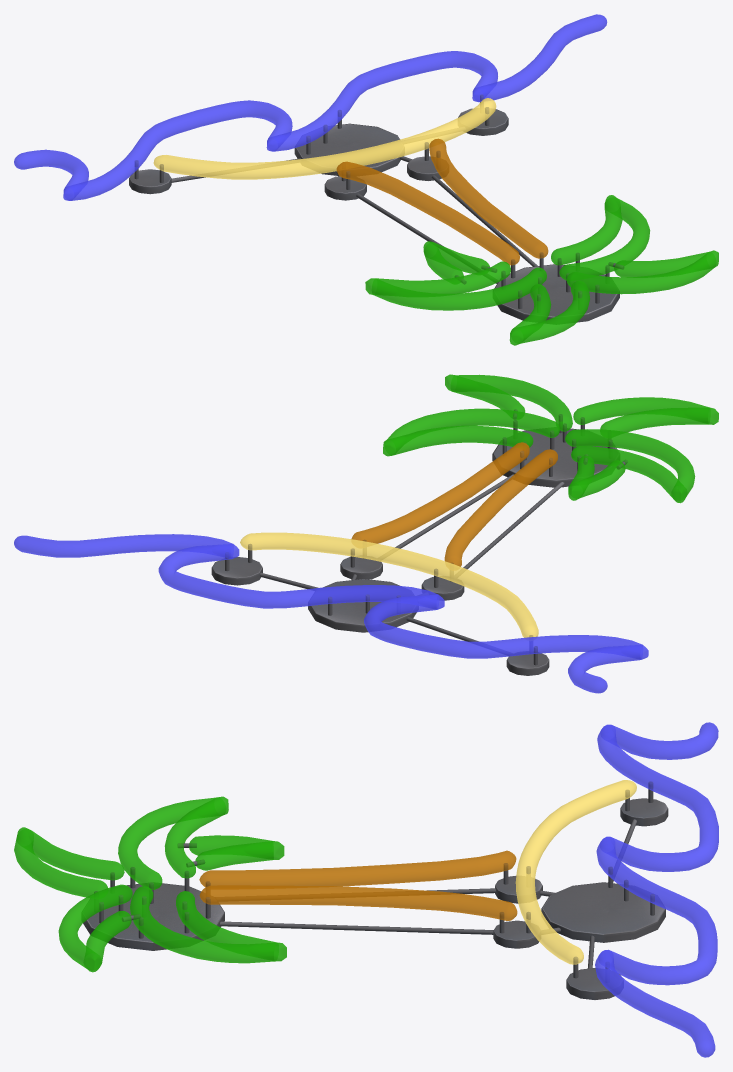
File: neon_palm_tree_sign.glb
3 renders of one model, top to bottom at view 1: azimuth 30°, elevation 25°; view 2: azimuth 150°, elevation 25°; view 3: azimuth 270°, elevation 25°, orthographic. The views are drawn at different scales.
Parts seen in each view (by area): view 1: Object_6, Object_3, Object_2, Object_5, Object_4; view 2: Object_6, Object_3, Object_2, Object_5, Object_4; view 3: Object_6, Object_2, Object_3, Object_5, Object_4.
Boxes of the visible parts, x1,y1,x2,y2 form: Object_6: (365, 195, 718, 345); Object_3: (14, 14, 607, 200); Object_2: (129, 94, 624, 322); Object_5: (336, 138, 548, 265); Object_4: (153, 98, 496, 179); Object_6: (383, 374, 718, 503); Object_3: (14, 534, 648, 693); Object_2: (211, 409, 627, 675); Object_5: (351, 442, 557, 566); Object_4: (240, 532, 538, 637); Object_6: (14, 796, 286, 972); Object_2: (83, 781, 668, 999); Object_3: (595, 722, 718, 1057); Object_5: (199, 850, 517, 920); Object_4: (515, 780, 636, 964).
Bounding box in the file's own units: 803 × 45.19 × 735.
5 materials, 5 textured.
